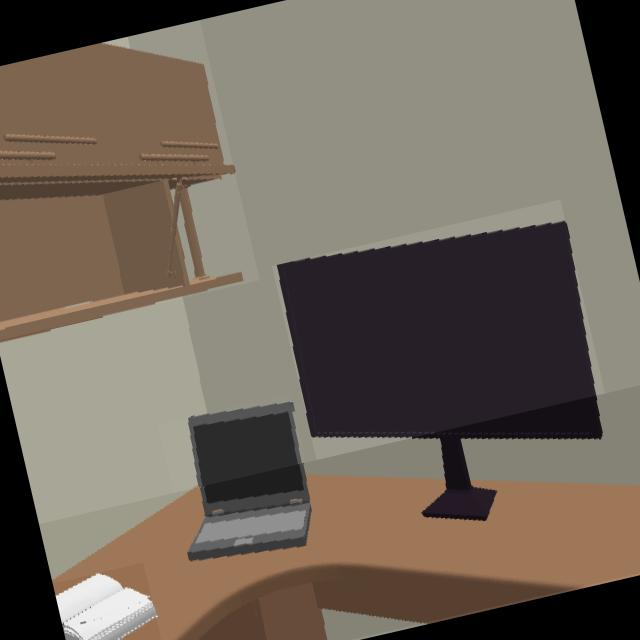book: (56, 573, 156, 640)
cabinet: (0, 43, 241, 339)
laptop: (187, 403, 311, 560)
monitor: (279, 223, 602, 518)
table: (52, 474, 640, 640)
